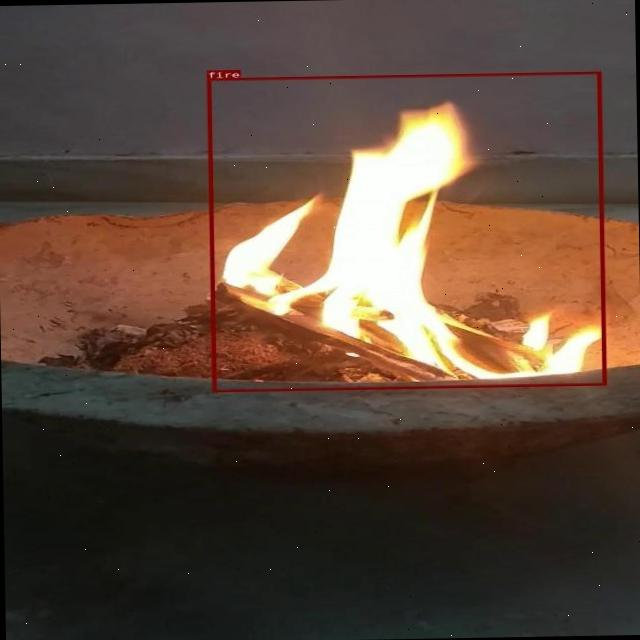fire: (206, 71, 605, 392)
